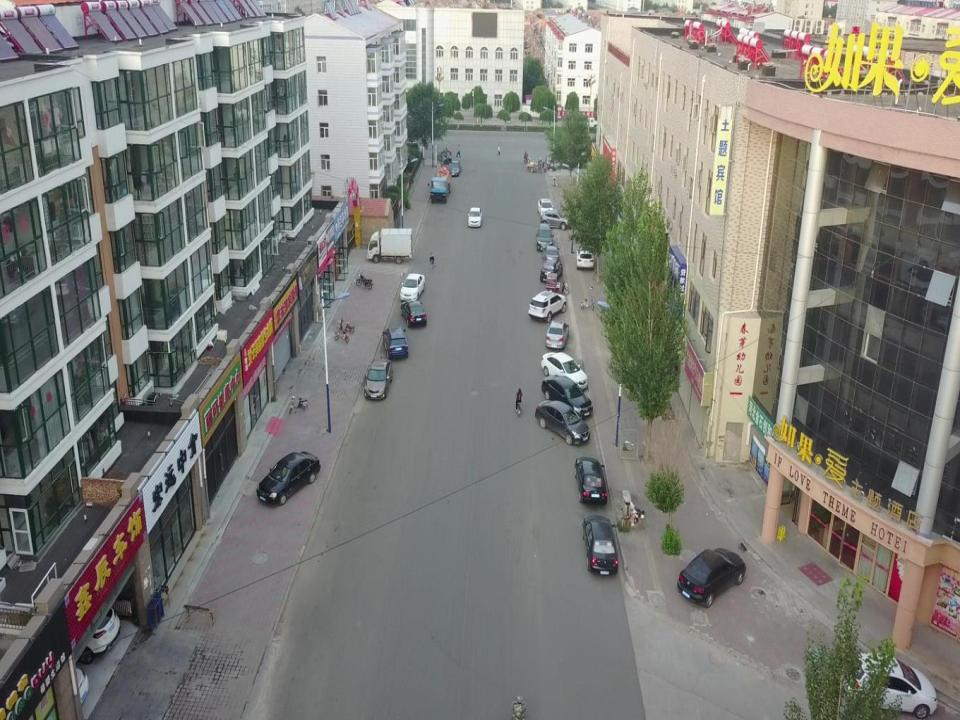car: (6, 586, 121, 664), (843, 652, 937, 719), (0, 649, 89, 719), (677, 547, 746, 607), (256, 451, 320, 504), (534, 400, 590, 445), (541, 374, 593, 418), (582, 515, 618, 575), (541, 352, 588, 391), (574, 456, 607, 504), (364, 359, 393, 400), (528, 290, 566, 321), (382, 326, 409, 358), (540, 209, 575, 230), (399, 273, 425, 301), (545, 320, 569, 349), (400, 301, 426, 327), (540, 258, 564, 282), (536, 223, 554, 251), (576, 248, 595, 270), (542, 246, 560, 266), (537, 199, 555, 219), (467, 207, 482, 227), (448, 161, 462, 177)
truck: (366, 228, 412, 264), (428, 165, 451, 203)
van: (578, 117, 595, 129)
